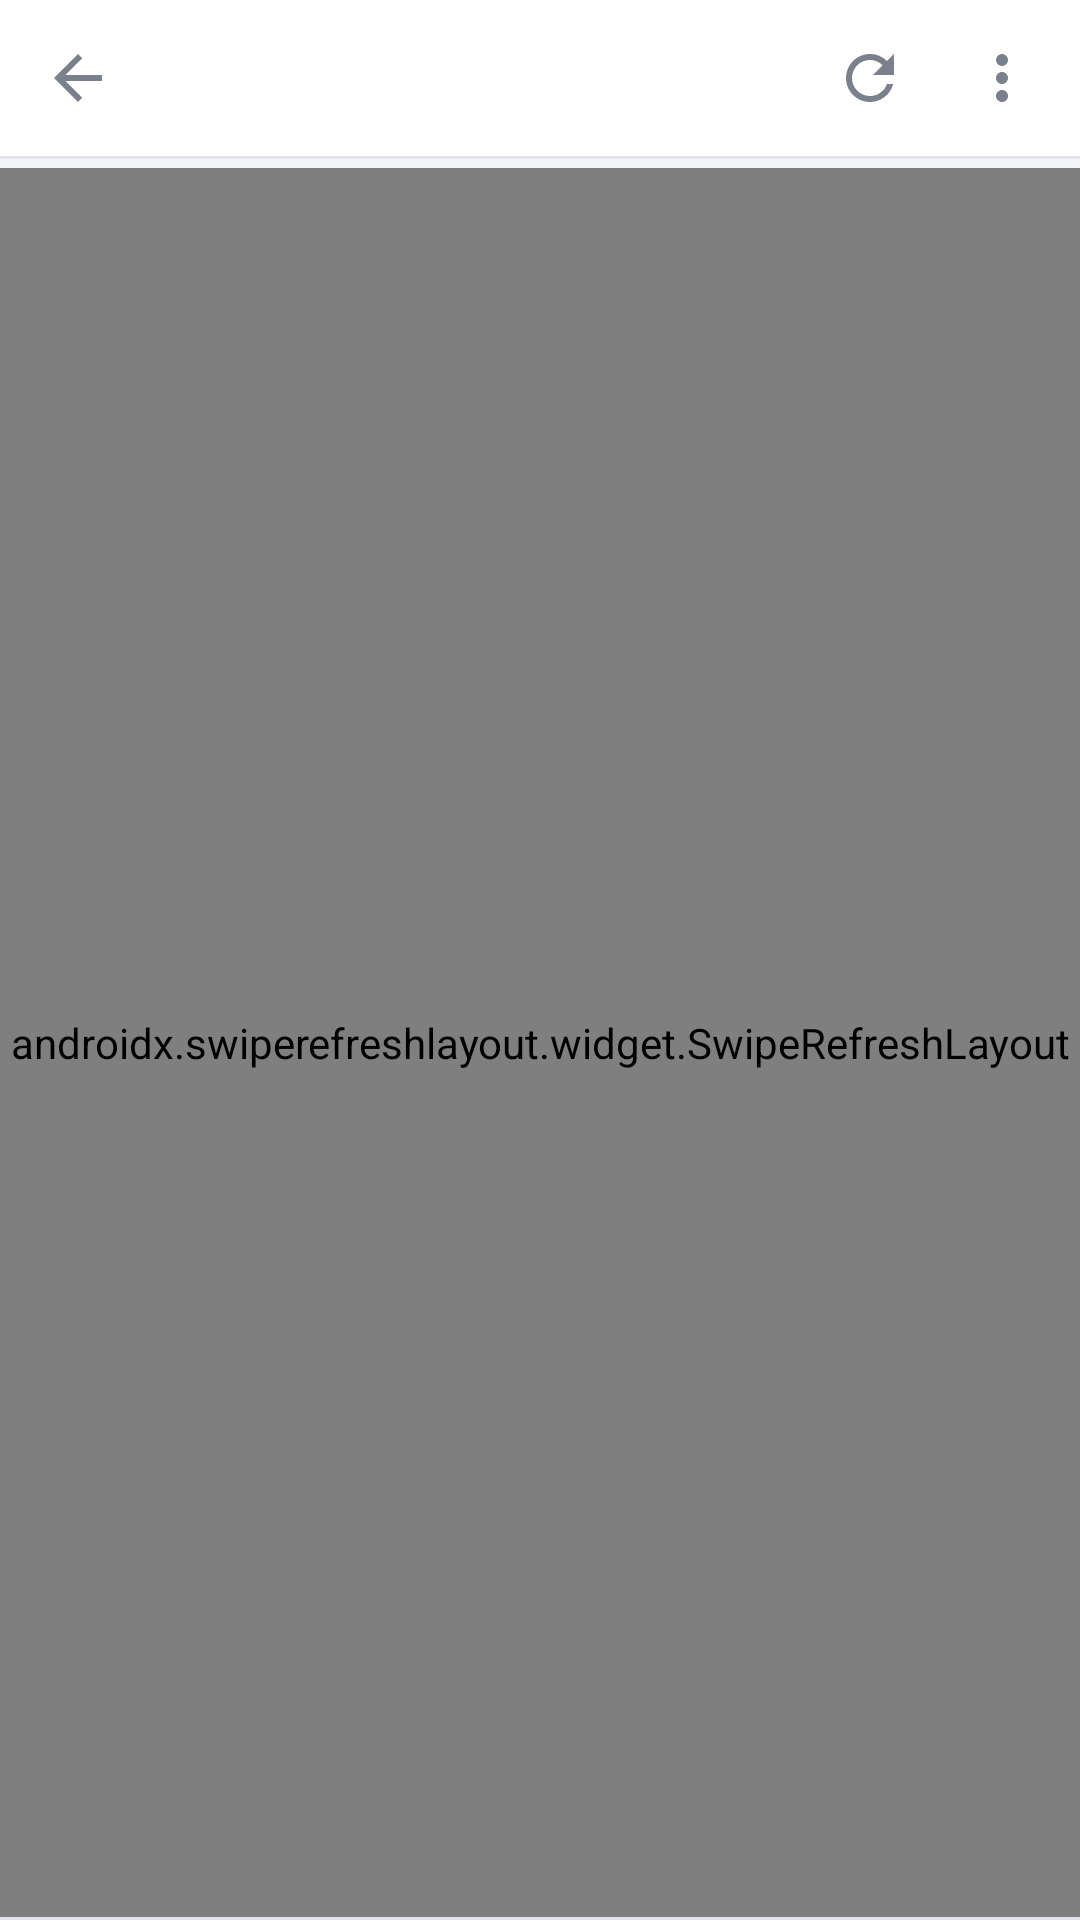

Icons on this 1080w x 1920h Android screen, each with the point to tap as [x,y]:
刷新: [870,78]
回到首页: [78,78]
